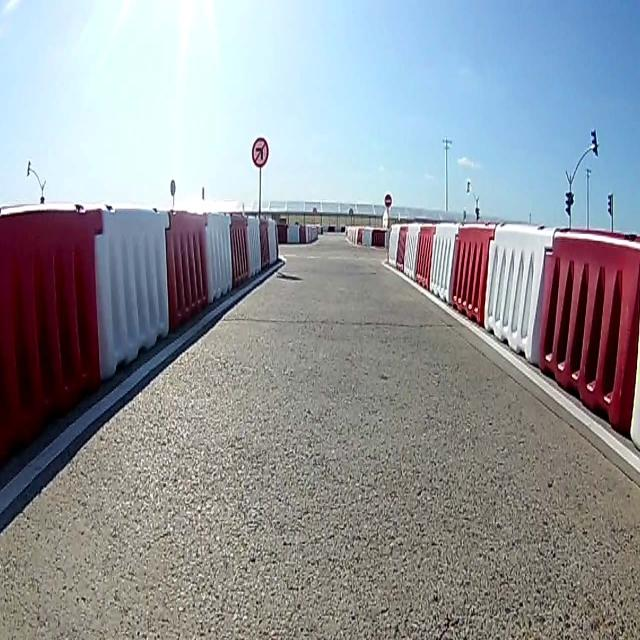girisyok: (384, 191, 392, 205)
soladonulmez: (251, 134, 271, 166)
